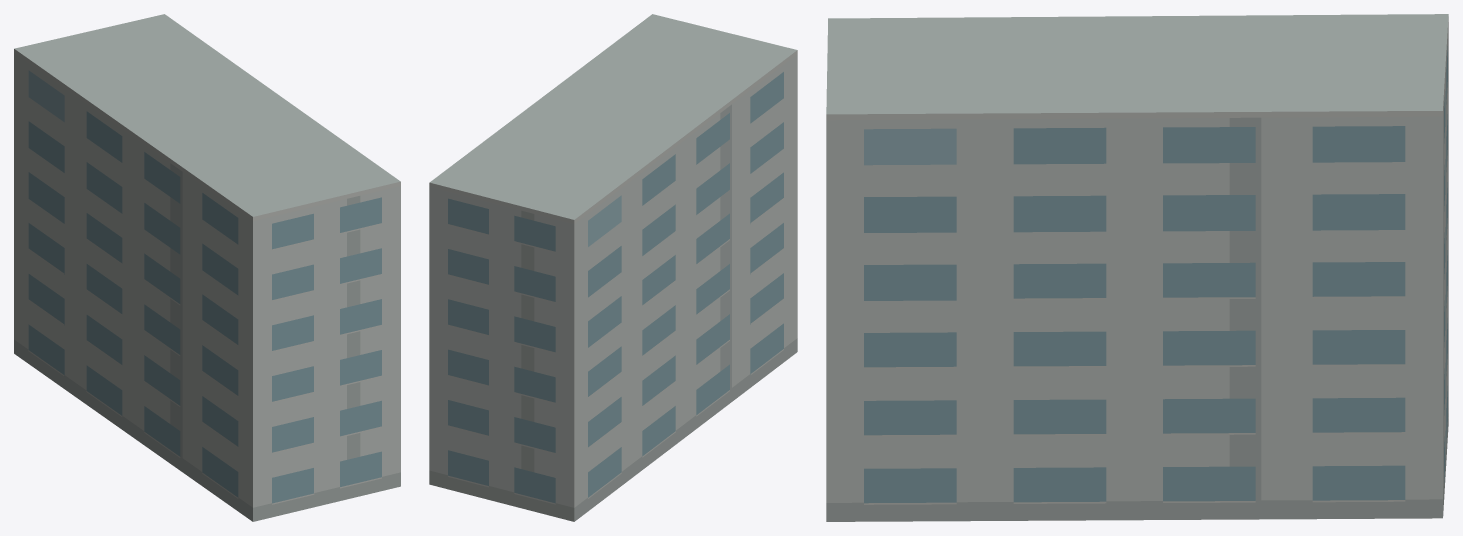
The model's file is survey-upis-32822449.glb.
The picture shows the model from 3 angles, left to right: view 1: azimuth 30°, elevation 25°; view 2: azimuth 150°, elevation 25°; view 3: azimuth 270°, elevation 25°; orthographic projection. The views are drawn at different scales.
Parts seen in each view (by area): view 1: survey-upis-32822449.tmp; view 2: survey-upis-32822449.tmp; view 3: survey-upis-32822449.tmp.
Part boxes in pixels (bbox=[...]): survey-upis-32822449.tmp: bbox=[14, 14, 400, 521]; survey-upis-32822449.tmp: bbox=[429, 14, 797, 521]; survey-upis-32822449.tmp: bbox=[826, 14, 1448, 521].
Bounding box in the file's own units: 8.99 × 17 × 23.54.
